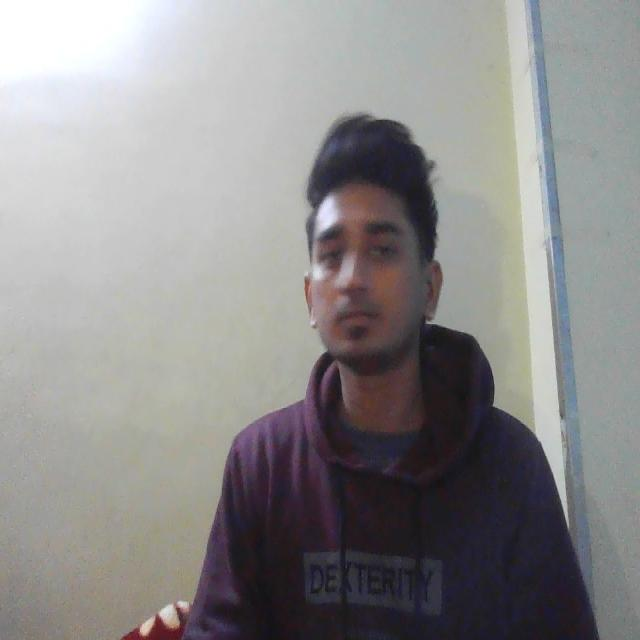real: (305, 131, 439, 384)
